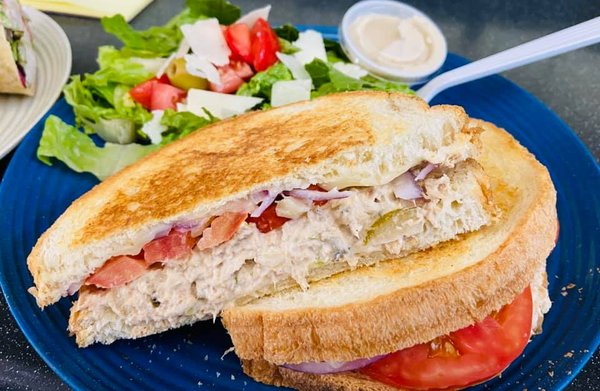soup: (36, 88, 554, 377), (0, 1, 35, 98)
sushi: (338, 1, 448, 84)
